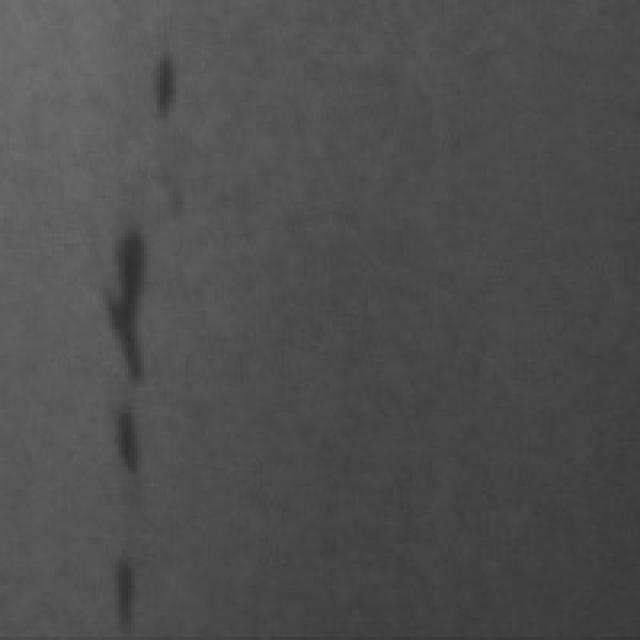inclusion: (90, 218, 156, 384), (96, 394, 147, 480), (131, 45, 186, 122), (106, 544, 140, 630)
